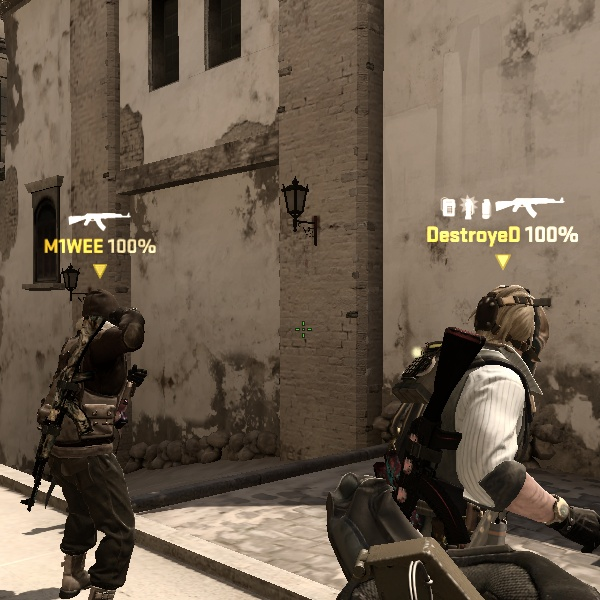t_body: (368, 278, 582, 600), (9, 280, 191, 593)
t_head: (462, 275, 564, 370), (69, 280, 136, 340)
